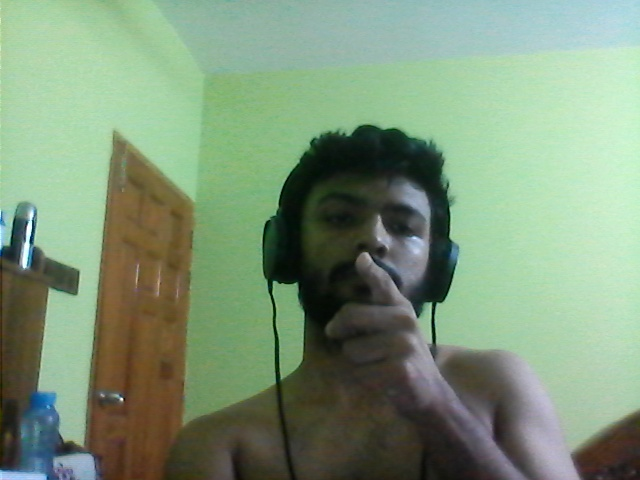You: (311, 246, 472, 433)
